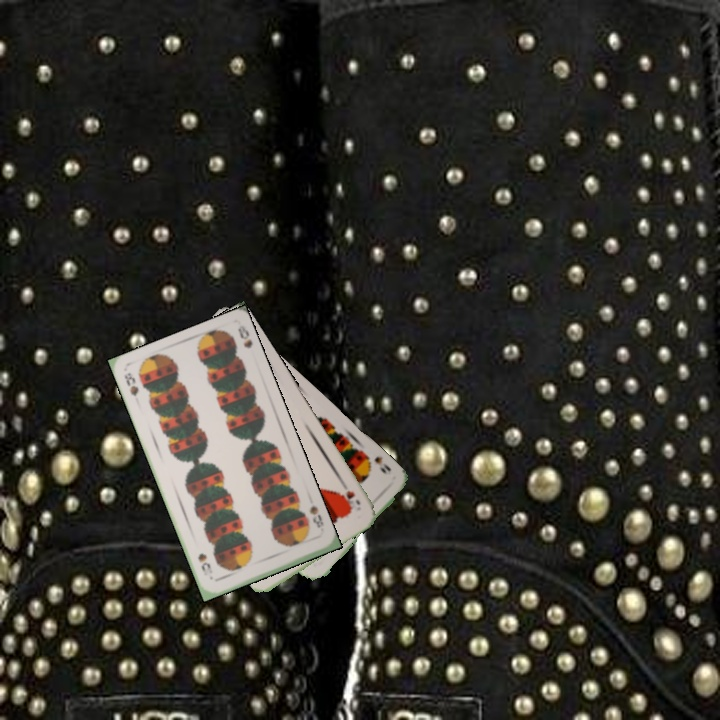HO: (339, 486, 363, 511)
S8: (120, 369, 141, 399), (305, 502, 326, 530)
S9: (360, 451, 394, 476)
